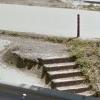stairs: (43, 56, 100, 100)
